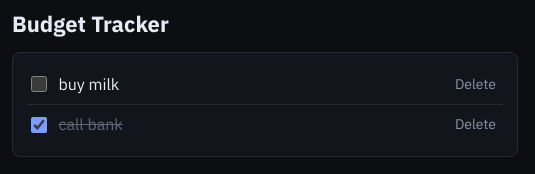
Test: list inline actions › deletes a row and shows the refreshed rows
The image size is (535, 174).
Click the button "Delete" in the row of "buy milk" at [475, 84], box [448,71,503,98]
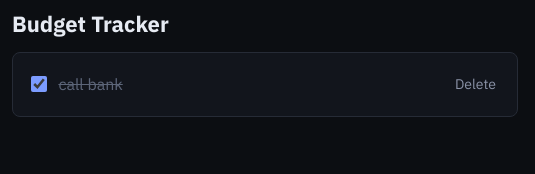
expect the text "buy milk" is gone: met
